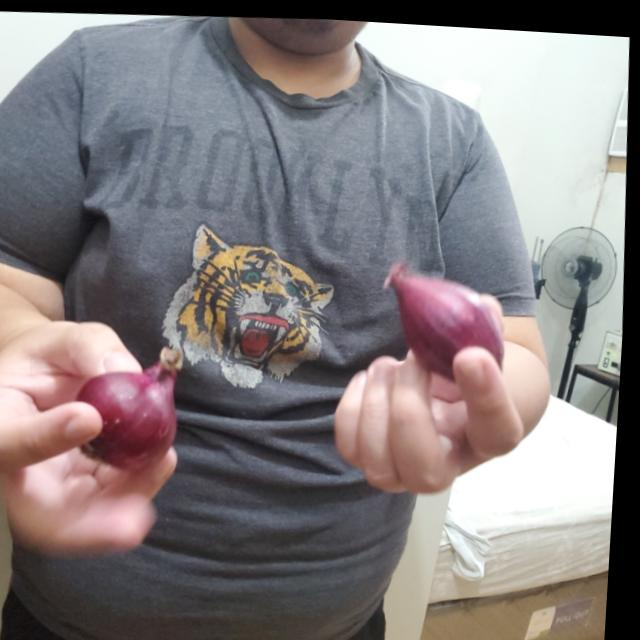onion: (385, 251, 509, 378), (83, 341, 196, 454)
